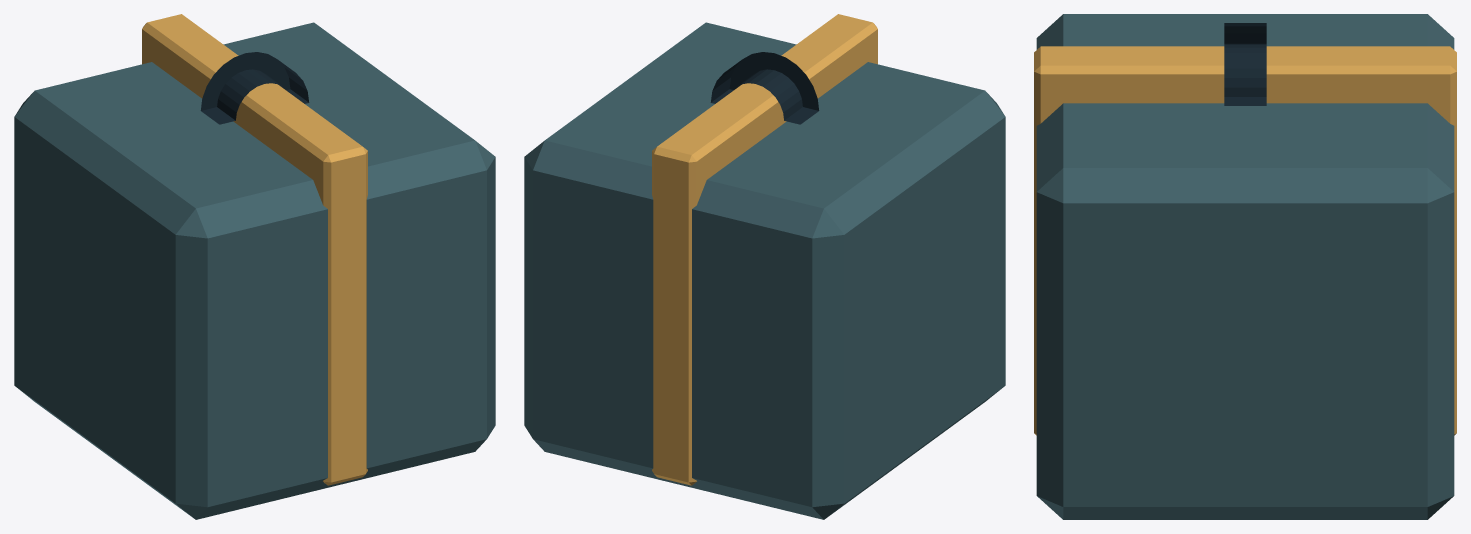
Rendered from ballast.glb.
3 views of the same model, side by side, from view 1: azimuth 30°, elevation 25°; view 2: azimuth 150°, elevation 25°; view 3: azimuth 270°, elevation 25° (orthographic). The views are drawn at different scales.
Parts seen in each view (by area): view 1: ballast_solid; view 2: ballast_solid; view 3: ballast_solid.
Boxes of the visible parts, x1=… form: ballast_solid: x1=14, y1=14, x2=495, y2=519; ballast_solid: x1=524, y1=14, x2=1005, y2=519; ballast_solid: x1=1034, y1=14, x2=1456, y2=519.
Size of the model in its own units: 1.57 by 1.72 by 1.59.
